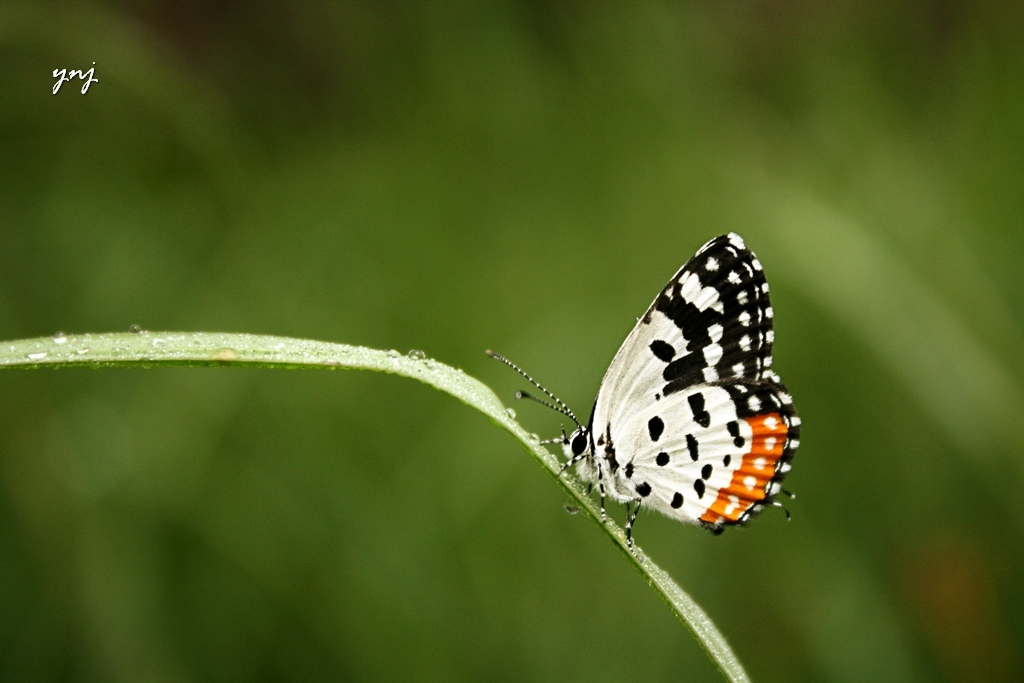Butterfly: (516, 235, 818, 540)
